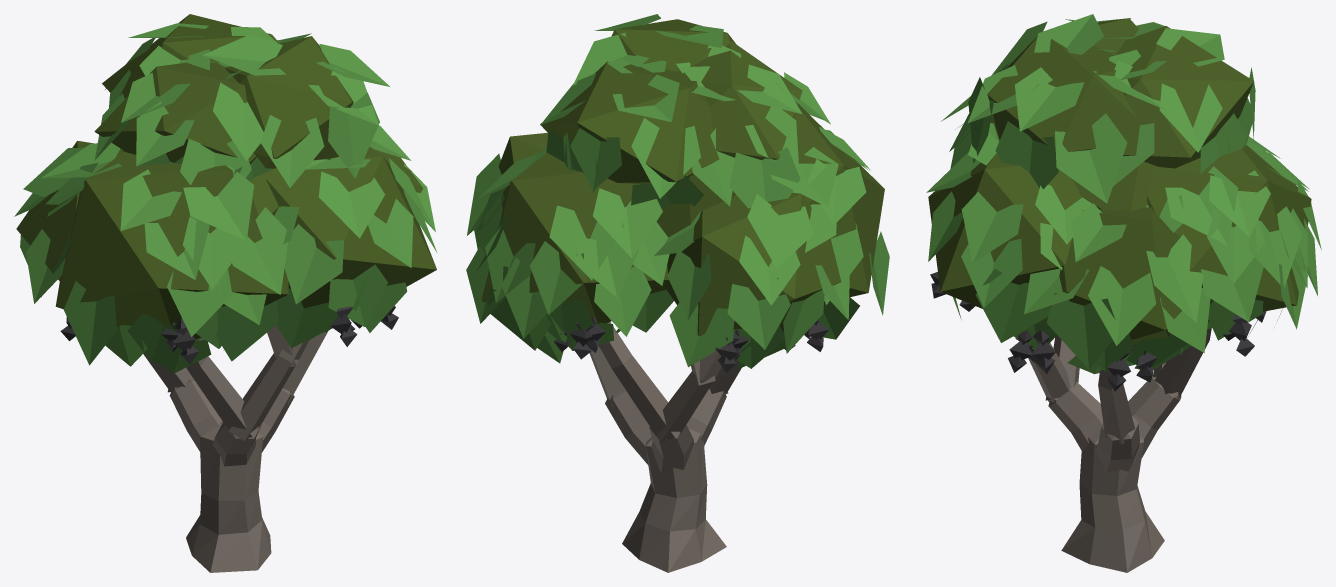
Rendered from mulberry-tree-032f4e.glb.
3 renders of one model, left to right at view 1: azimuth 30°, elevation 25°; view 2: azimuth 150°, elevation 25°; view 3: azimuth 270°, elevation 25°, orthographic. The views are drawn at different scales.
Visible parts, largest first — view 1: crown-mesh, trunk; view 2: crown-mesh, trunk; view 3: crown-mesh, trunk.
Boxes of the visible parts, box(x1,y1,x2,y2) form: crown-mesh: box(14, 14, 437, 466); trunk: box(186, 421, 271, 572); crown-mesh: box(466, 14, 889, 473); trunk: box(622, 428, 726, 572); crown-mesh: box(926, 14, 1321, 472); trunk: box(1061, 429, 1164, 572).
Bounding box in the file's own units: 3.89 × 5.09 × 3.57.
